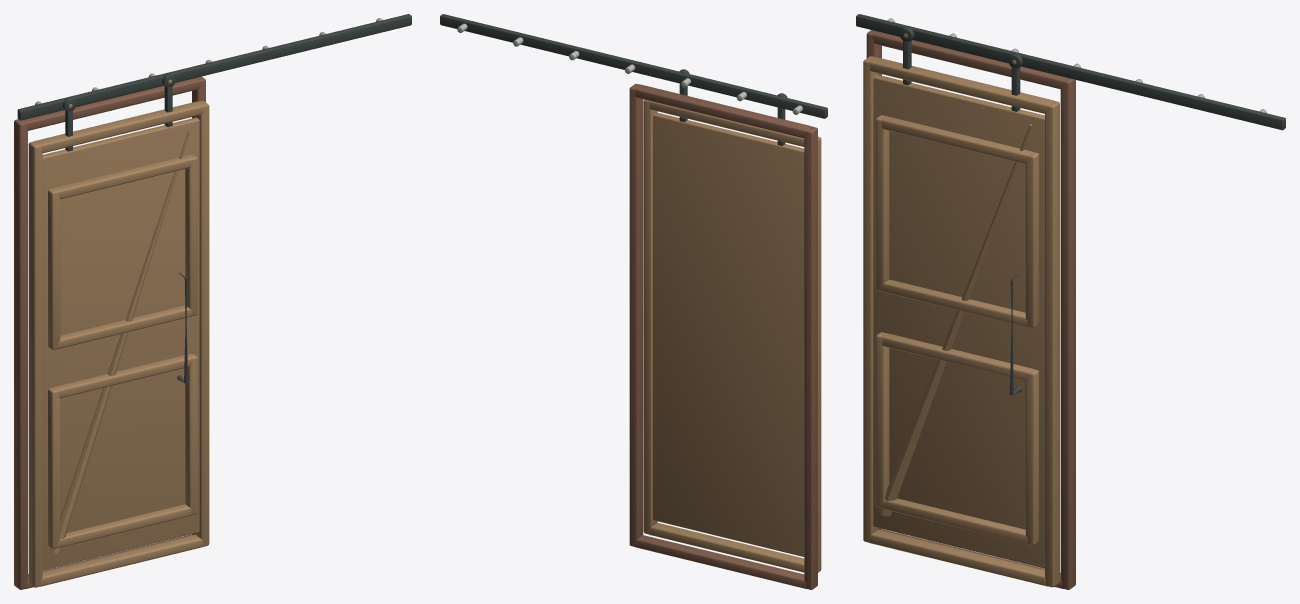
Rendered from door-barn-brace.glb.
3 renders of one model, left to right at view 1: azimuth 30°, elevation 25°; view 2: azimuth 150°, elevation 25°; view 3: azimuth 330°, elevation 25°, orthographic. The views are drawn at different scales.
Parts seen in each view (by area): view 1: sliding_leaf_0, catalog_surface_RealismUV, catalog_surface_UVMap; view 2: sliding_leaf_0, catalog_surface_RealismUV, catalog_surface_UVMap; view 3: sliding_leaf_0, catalog_surface_RealismUV, catalog_surface_UVMap.
Part boxes in pixels (x1,y1,x2,y2): sliding_leaf_0: [28, 73, 209, 587]; catalog_surface_RealismUV: [14, 18, 382, 589]; catalog_surface_UVMap: [17, 14, 411, 120]; sliding_leaf_0: [643, 69, 821, 572]; catalog_surface_RealismUV: [457, 23, 817, 589]; catalog_surface_UVMap: [440, 14, 827, 118]; sliding_leaf_0: [863, 26, 1059, 587]; catalog_surface_RealismUV: [866, 18, 1266, 589]; catalog_surface_UVMap: [856, 14, 1285, 130].
Size of the model in its own units: 1.9 by 2.25 by 0.2.
